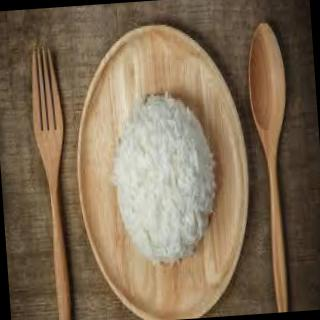Nasi: (104, 85, 222, 267)
